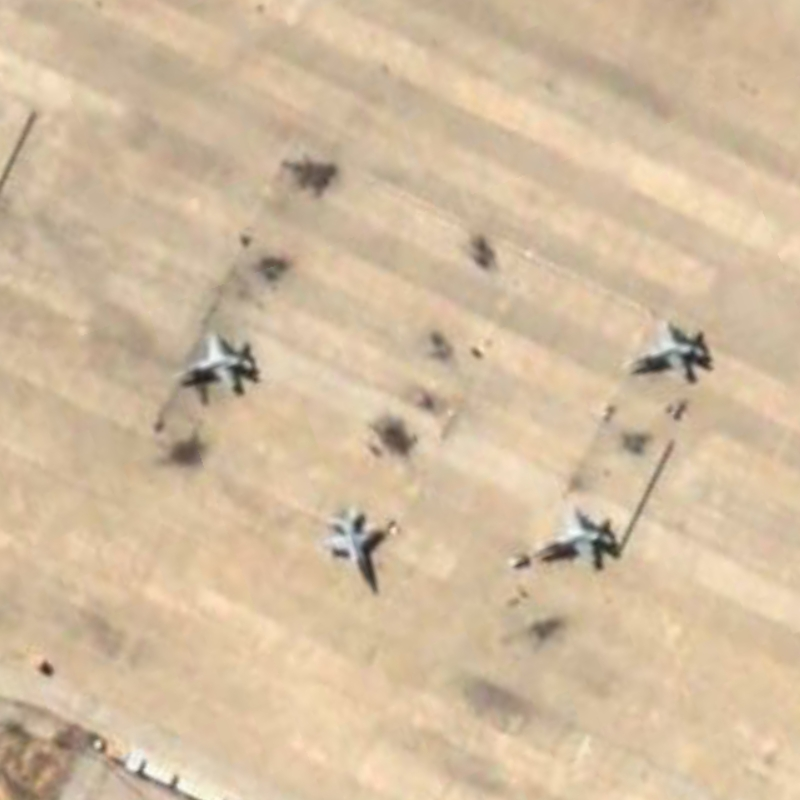A16: (315, 501, 401, 596), (165, 325, 269, 399), (622, 315, 721, 387), (526, 504, 625, 572)
